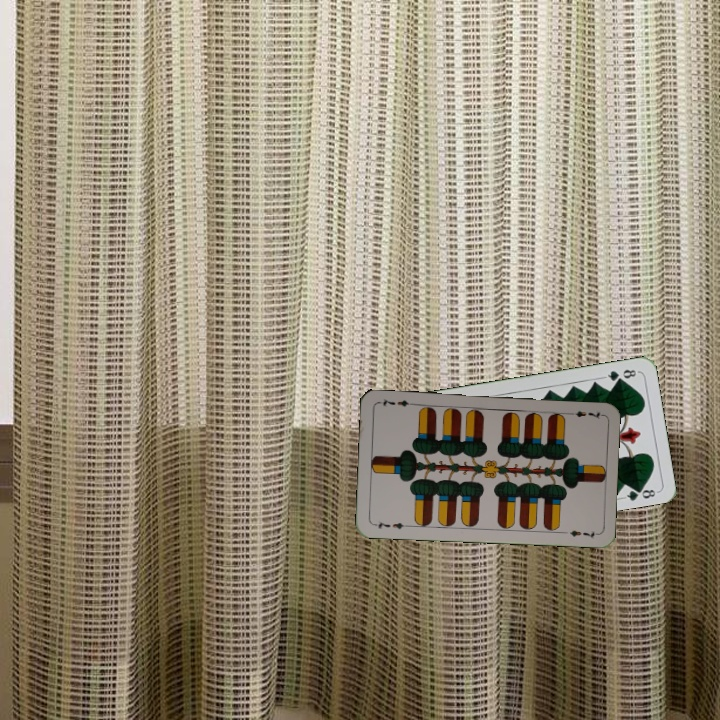E7: (370, 517, 411, 531), (563, 407, 604, 421)
G8: (600, 365, 641, 384)
